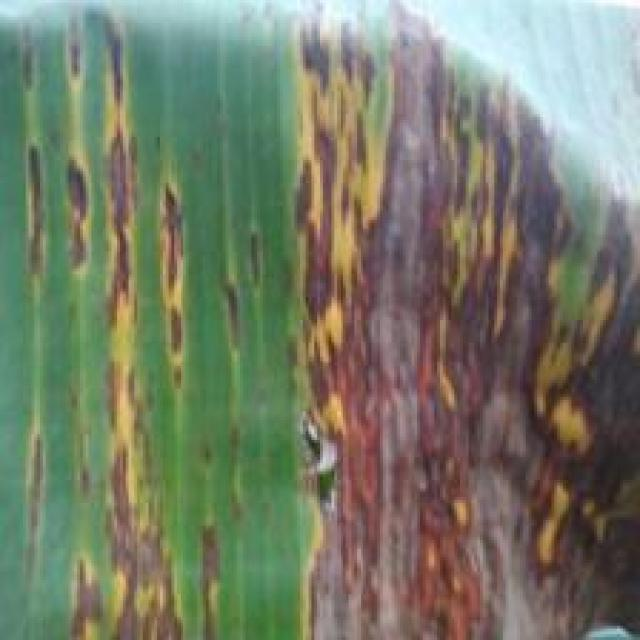Early_leaf_spot: (255, 0, 640, 640), (0, 3, 257, 640)
